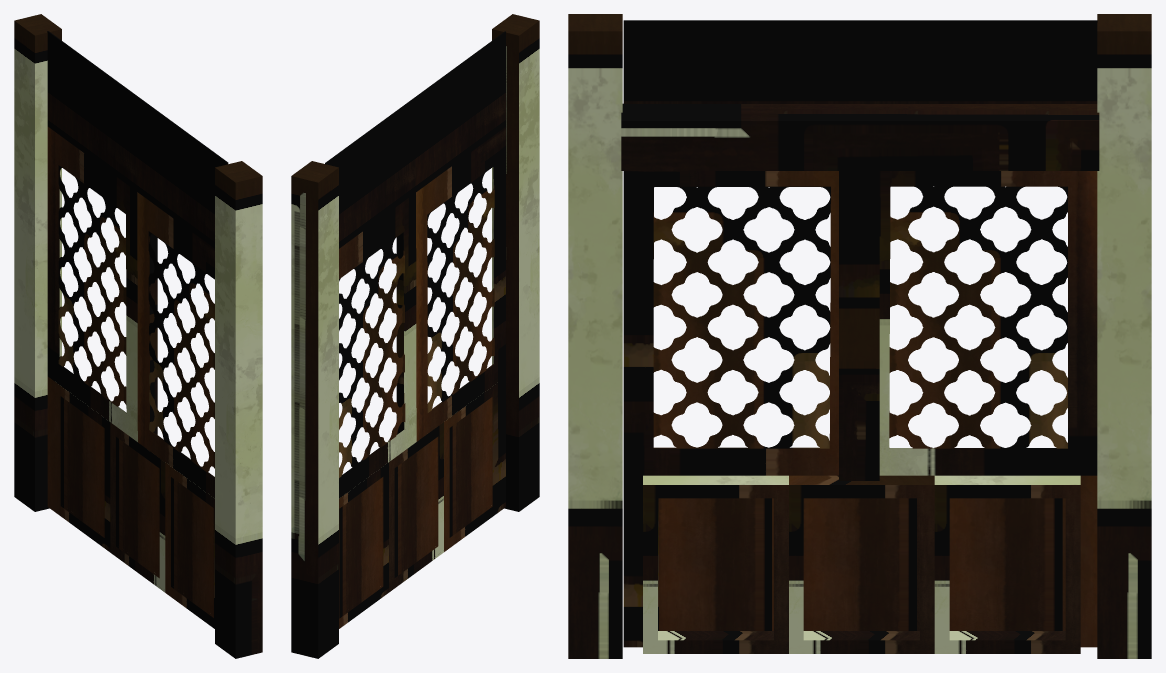
File: wall.fbx
The picture shows the model from 3 angles, left to right: view 1: azimuth 30°, elevation 25°; view 2: azimuth 150°, elevation 25°; view 3: azimuth 270°, elevation 25°; orthographic projection. The views are drawn at different scales.
Visible parts, largest first — view 1: pasted__pCube63, pCube33, pCube37; view 2: pasted__pCube63, pCube33, pCube37; view 3: pasted__pCube63, pCube33, polySurface590, pCube38, pCube37.
Boxes of the visible parts, <box> form: pasted__pCube63: <box>47,31,228,628</box>; pCube33: <box>14,14,262,658</box>; pCube37: <box>149,234,157,434</box>; pasted__pCube63: <box>325,31,505,628</box>; pCube33: <box>291,14,539,658</box>; pCube37: <box>396,232,404,434</box>; pasted__pCube63: <box>623,20,1097,647</box>; pCube33: <box>568,14,1151,658</box>; polySurface590: <box>643,475,1080,653</box>; pCube38: <box>621,103,1099,170</box>; pCube37: <box>839,171,879,480</box>.
Bounding box in the file's own units: 4.11 × 46.64 × 39.18.
